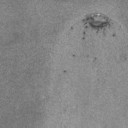iron sheet ash: (80, 13, 112, 40)
